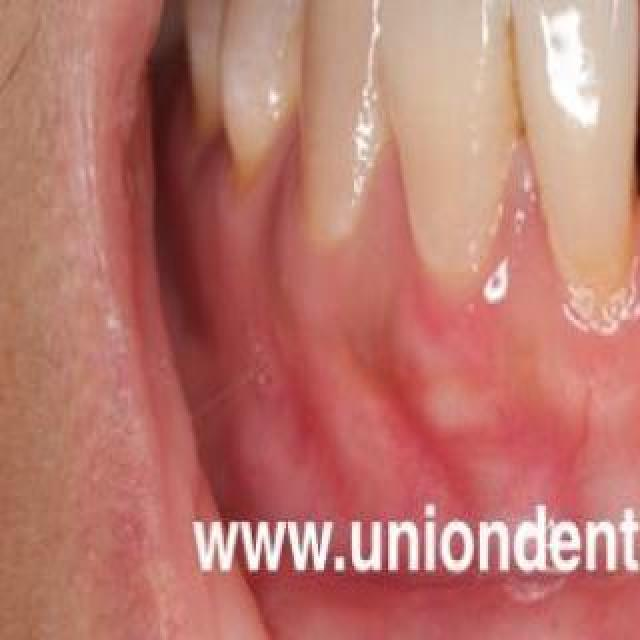spacing: (604, 0, 640, 202)
stains: (473, 10, 567, 170)
